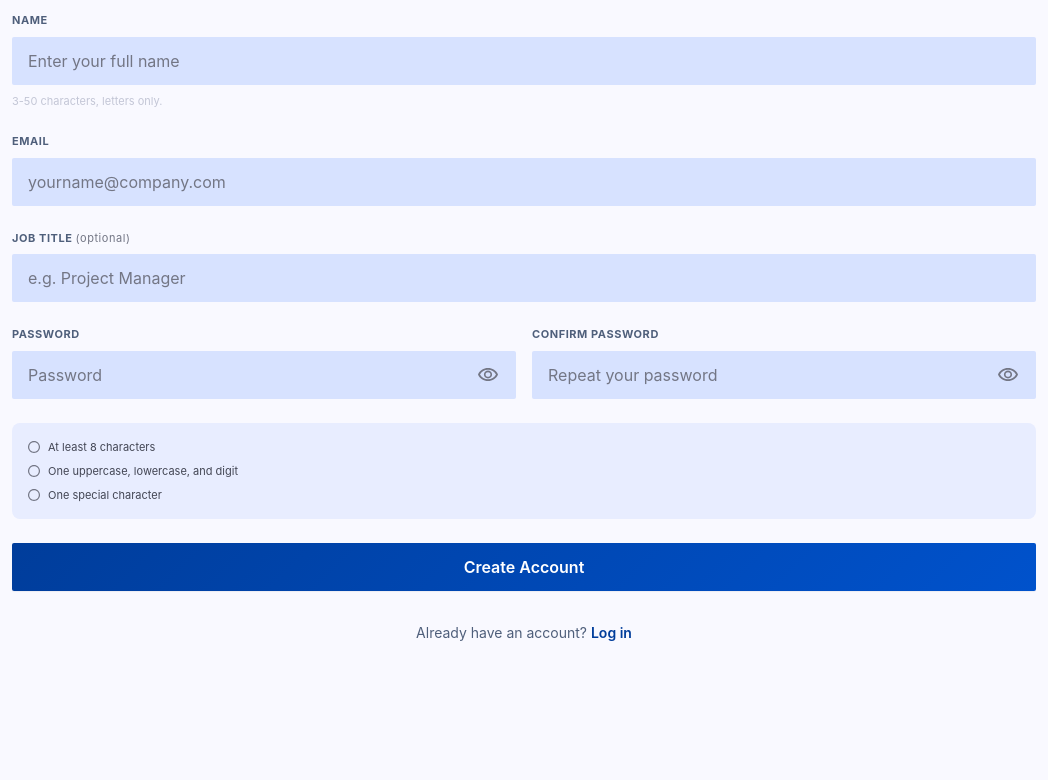
Test: SignUpForm › renders validation error and rejects before fetch for invalid email format
Type "Jane Doe" into the field labelled "Name" at (524, 60), box 12,36 -> 1036,84
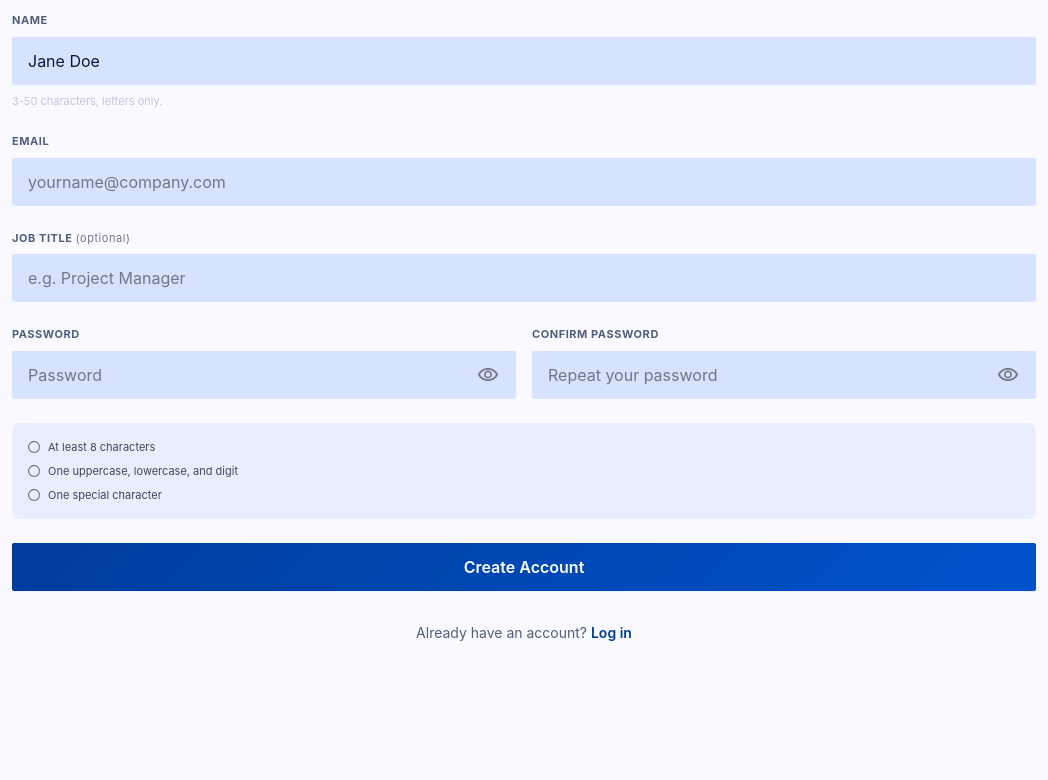
Type "not-an-email" into the field labelled "Email" at (524, 182), box 12,158 -> 1036,206
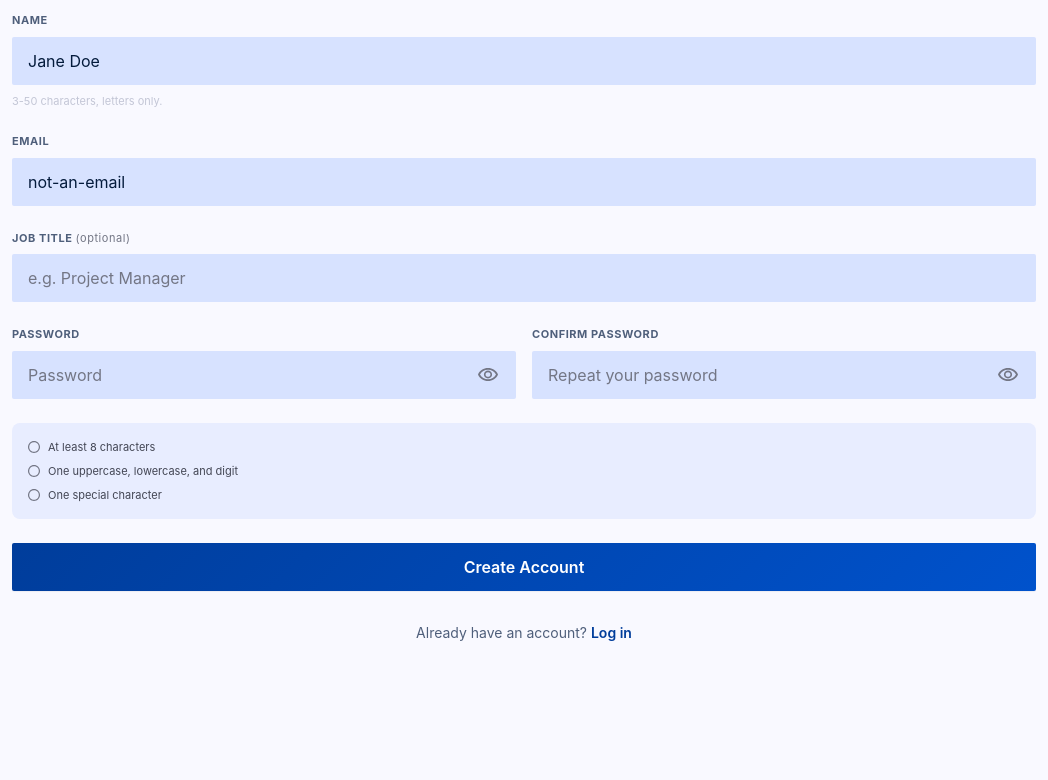
Type "Password123!" into the password field labelled "Password" at (264, 374), box 12,350 -> 516,398
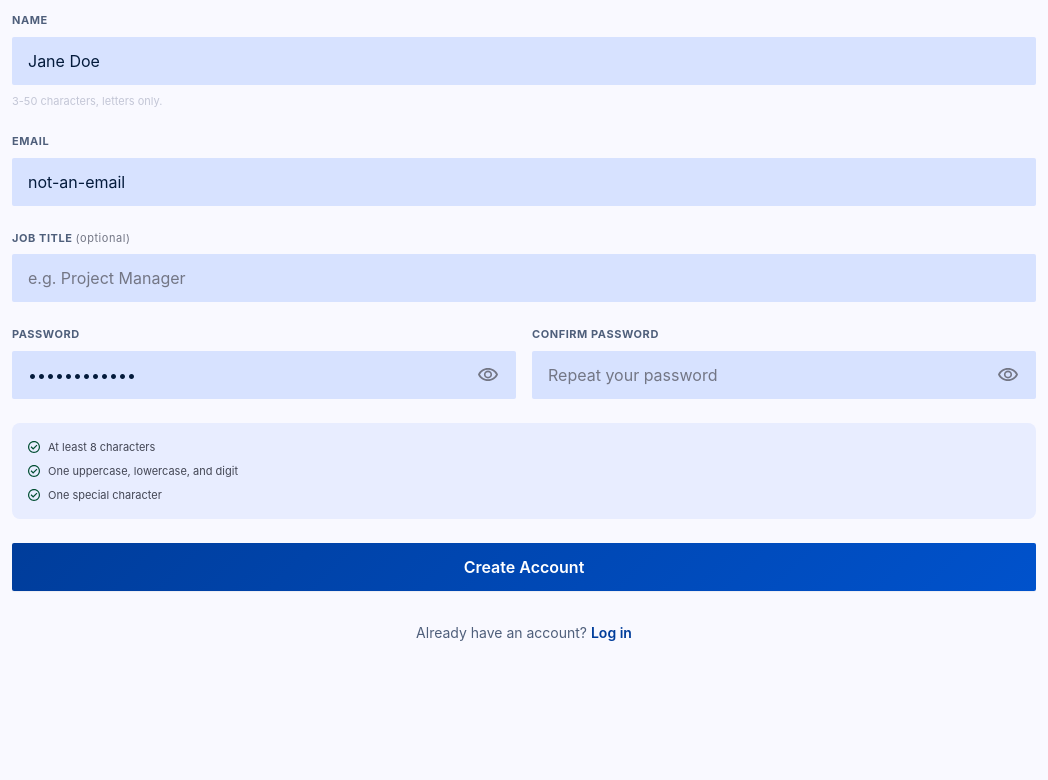
Type "Password123!" into the password field labelled "Confirm Password" at (784, 374), box 532,350 -> 1036,398
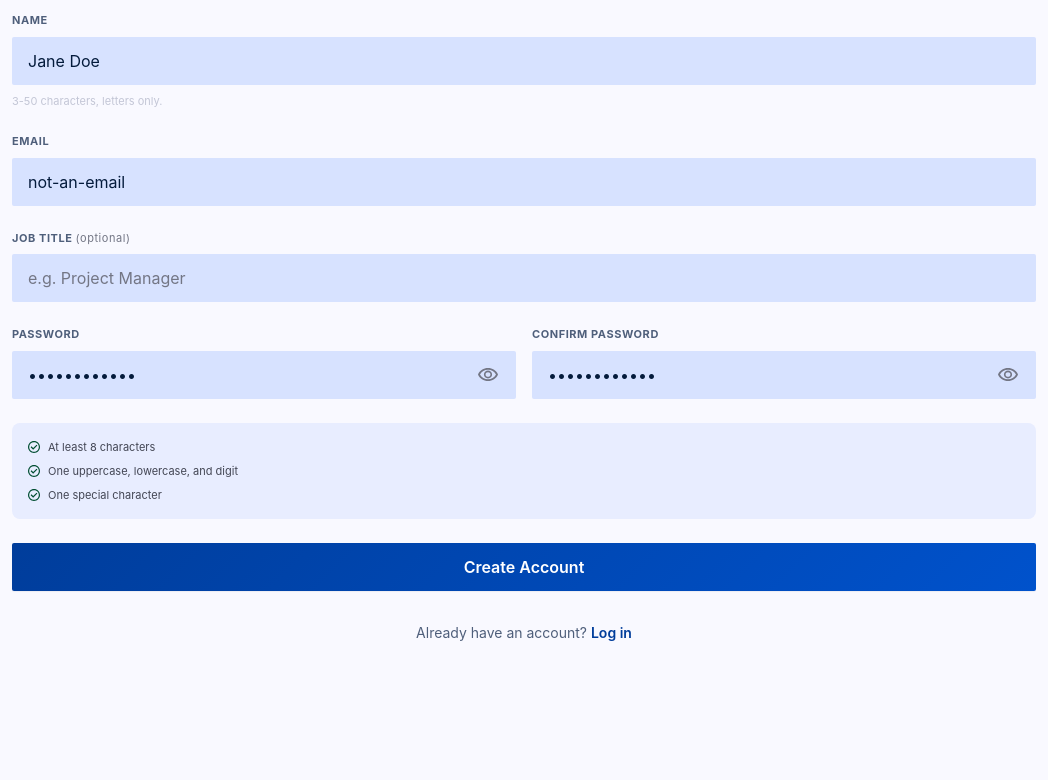
Click the button "Create Account" at (524, 567), box 12,543 -> 1036,591
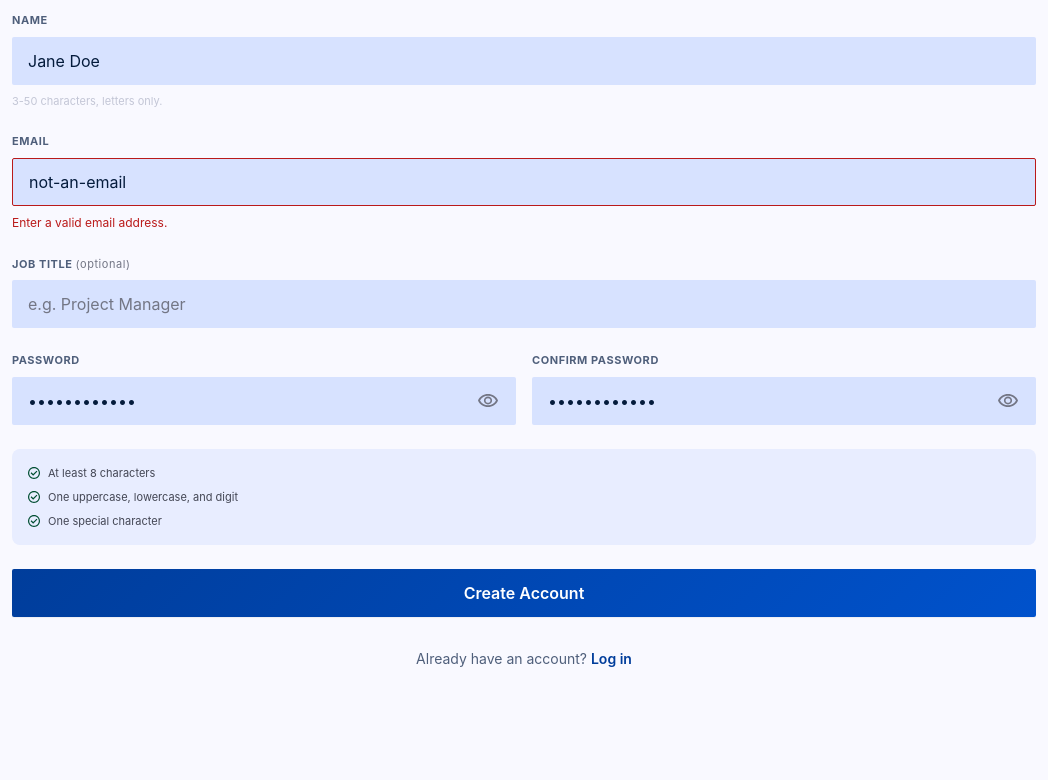
Expected: the text "Enter a valid email address." is shown, 12,214 -> 167,230
